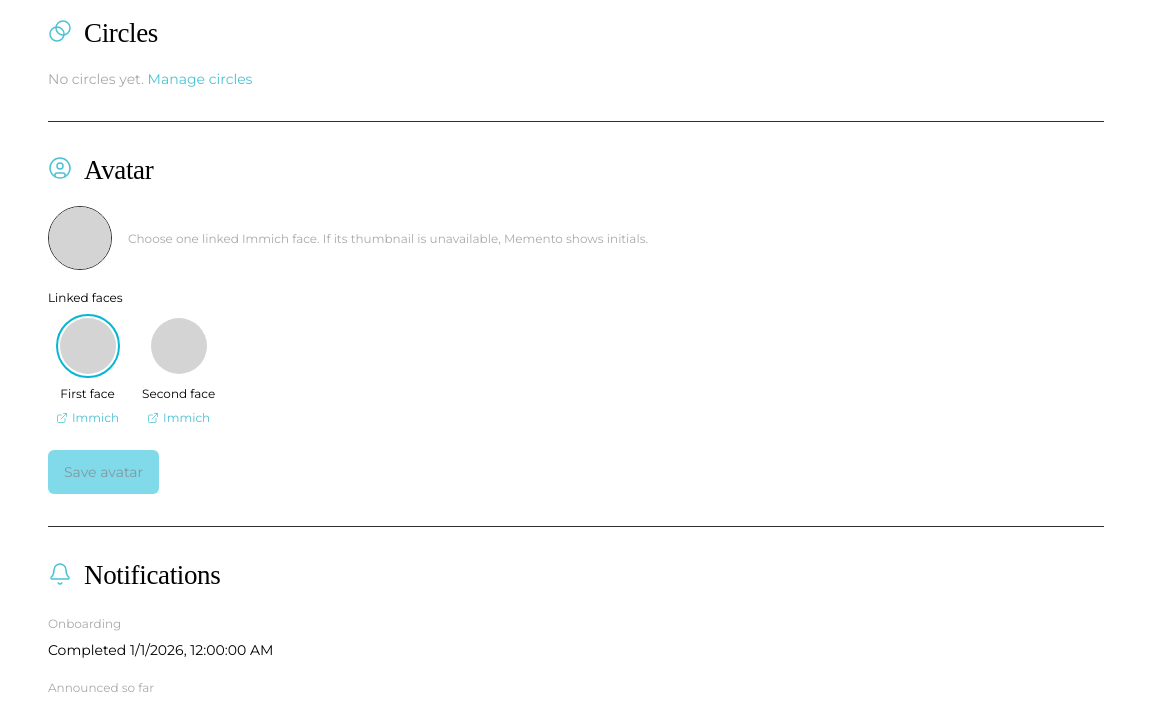
Test case: chooses an avatar from a Person's linked Immich faces
(page scrolled)
Step 1. Click the radio button with aria-label "Use Second face as avatar" → click(179, 360), box [142,318,215,402]
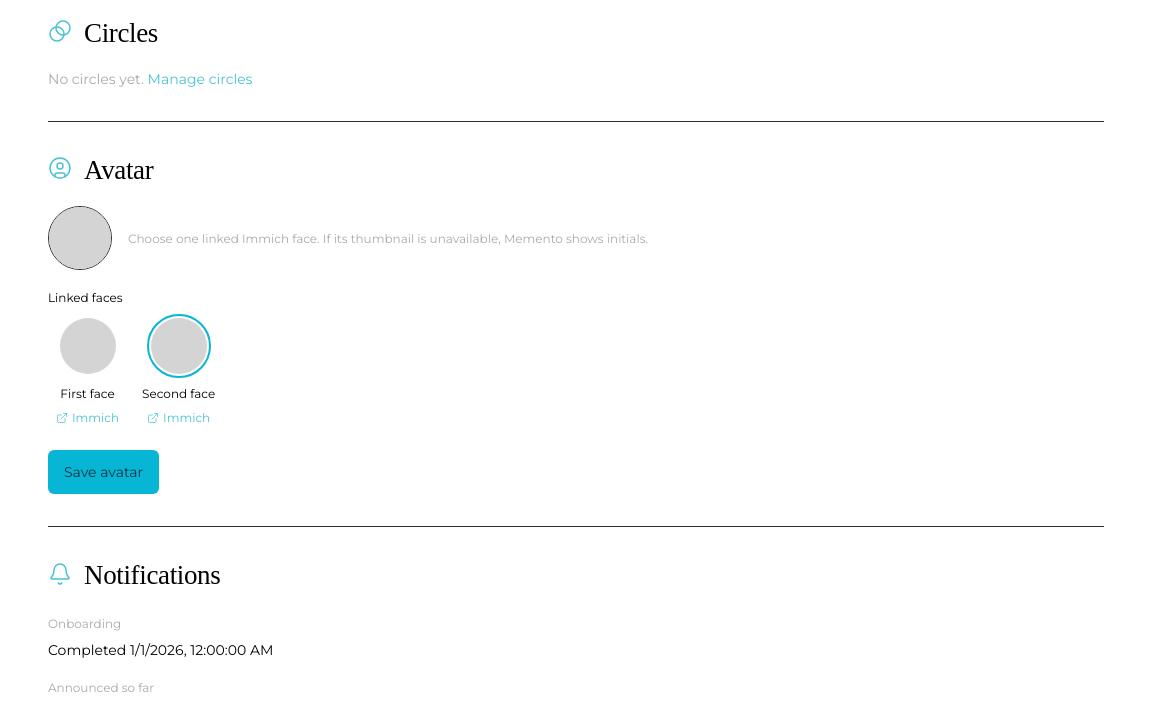
Step 2. Click the button "Save avatar" → click(104, 472), box [48,450,159,494]
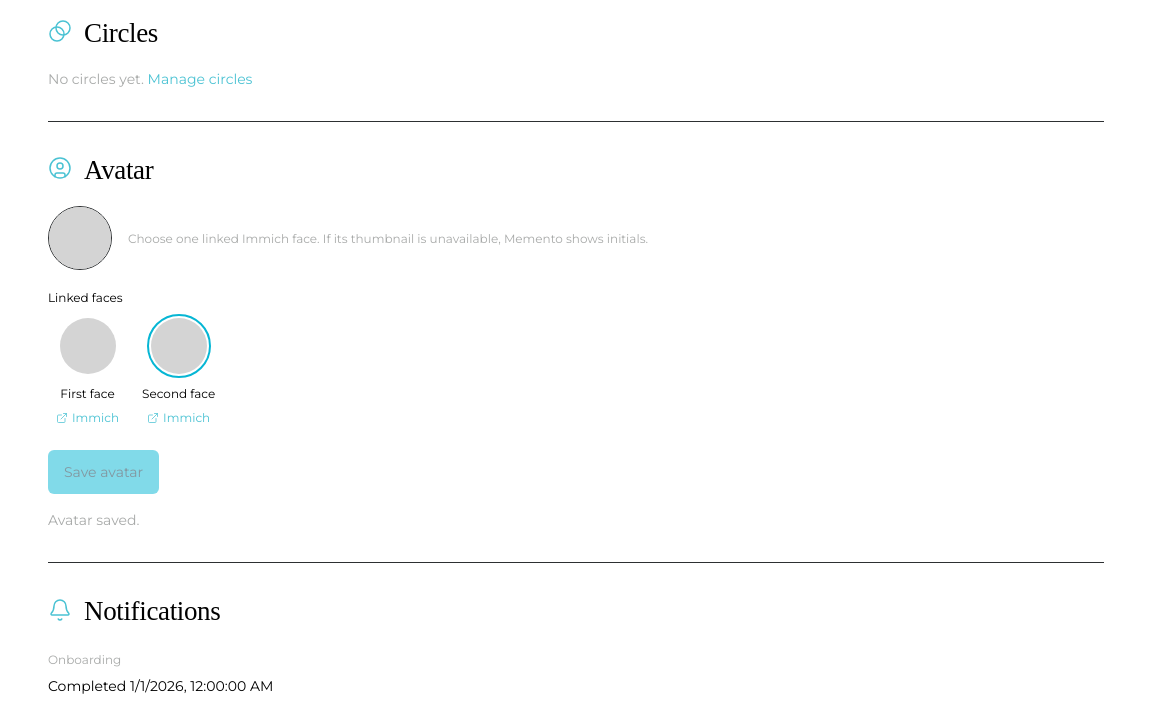
Result: the message reads "Avatar saved." at [48,512,139,530]
